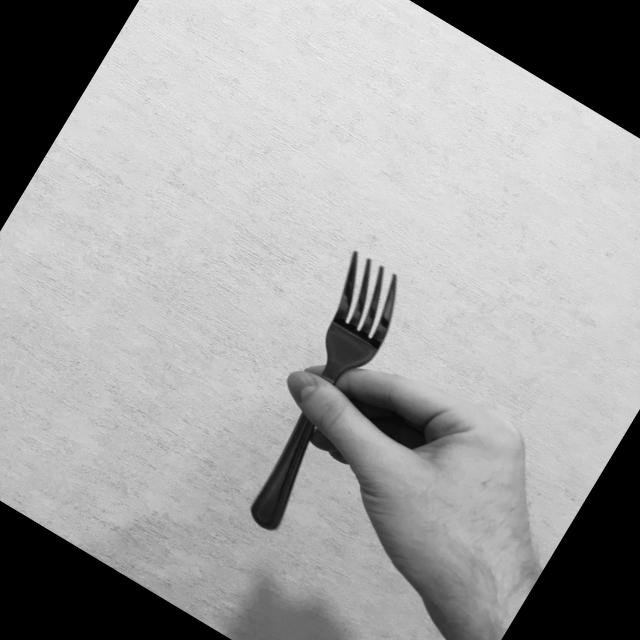fork: (205, 246, 422, 534)
